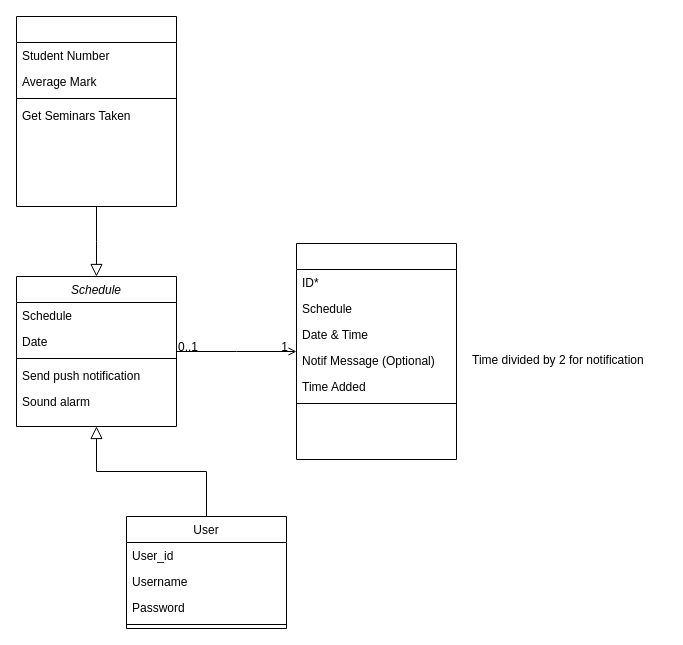
Image size: 683x645. Some labels were removed from this diagram. The shapes that lost their labels are listed below. From the top down, each one's box as (x1, y1, x2, y2) in pixels, then its label:
(16, 16, 176, 206): History
(296, 242, 456, 460): DB_Schedule
